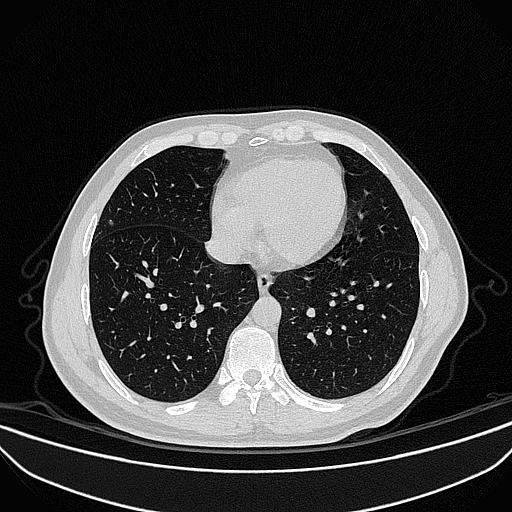nodule: (108, 220, 114, 225)
